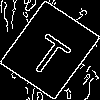T: (24, 25, 78, 81)
